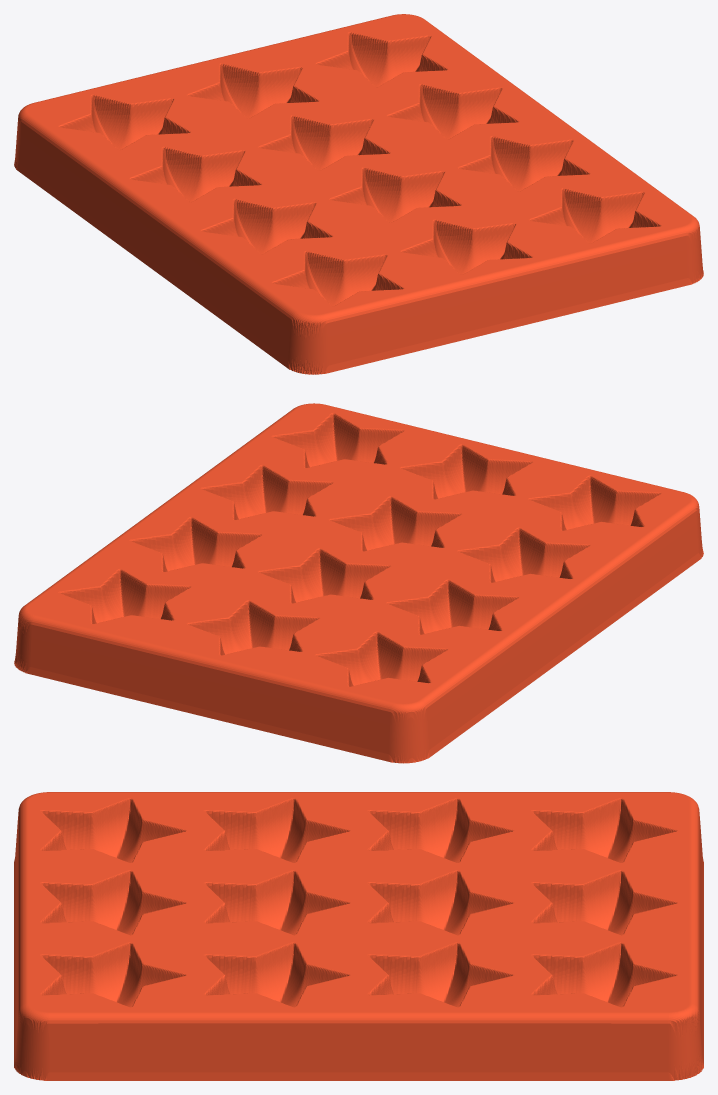
File: mold.glb
3 renders of one model, top to bottom at view 1: azimuth 30°, elevation 25°; view 2: azimuth 150°, elevation 25°; view 3: azimuth 270°, elevation 25°, orthographic. The views are drawn at different scales.
Parts seen in each view (by area): view 1: geometry_0; view 2: geometry_0; view 3: geometry_0.
Part boxes in pixels (left/top/right/bottom): geometry_0: left=14, top=14, right=703, bottom=374; geometry_0: left=14, top=403, right=703, bottom=763; geometry_0: left=14, top=792, right=703, bottom=1080.
Bounding box in the file's own units: 0.1389 × 0.0175 × 0.175.
